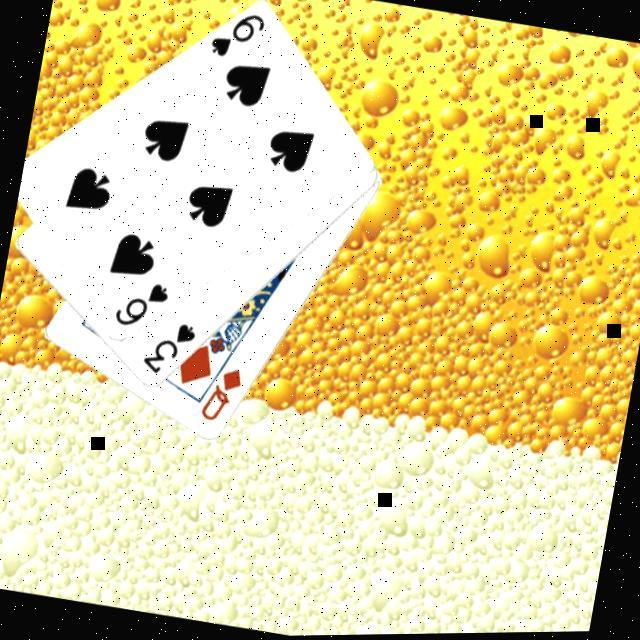3S: (137, 316, 201, 385)
6S: (110, 274, 175, 338), (206, 6, 270, 68)
QD: (197, 362, 248, 431)
